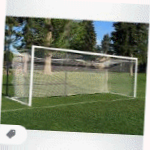goals: (7, 43, 139, 109)
